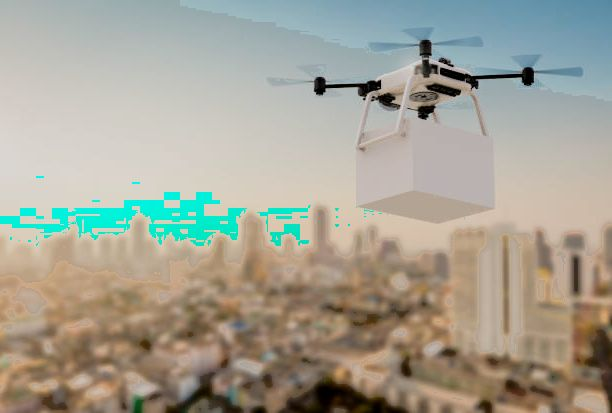Drone: (263, 21, 587, 122)
